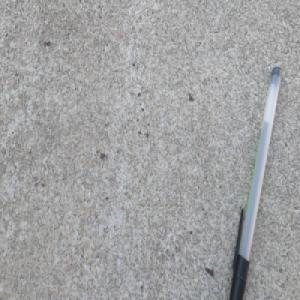Pen: (227, 60, 284, 300)
